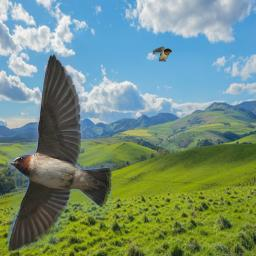Swallow: (7, 53, 113, 253), (152, 46, 172, 62)
